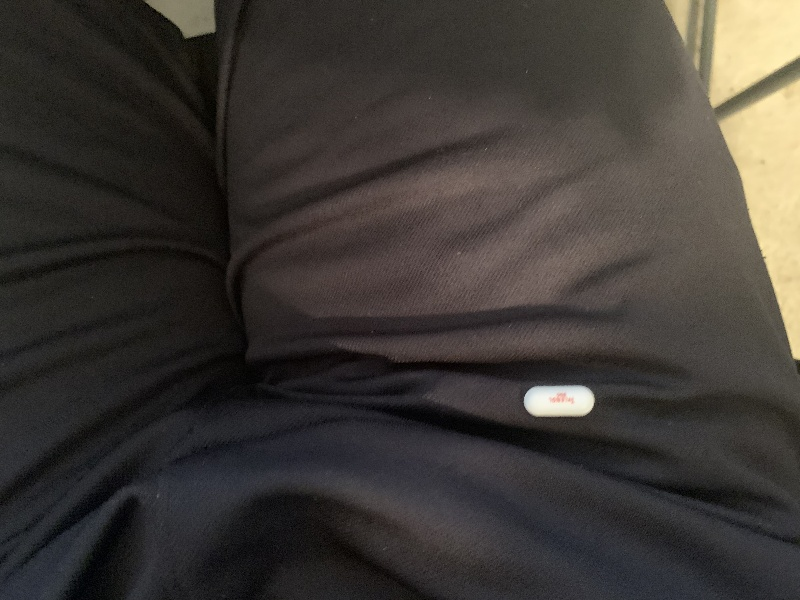Tylenol: (519, 383, 603, 420)
